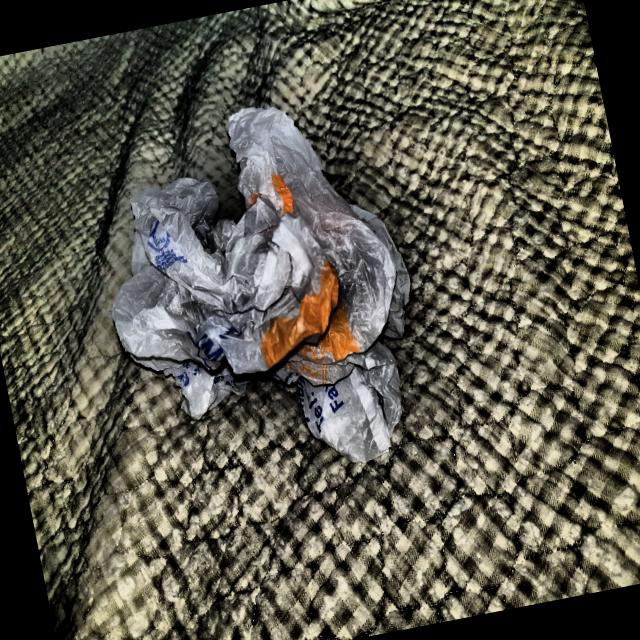plastic bag: (65, 66, 459, 522)
